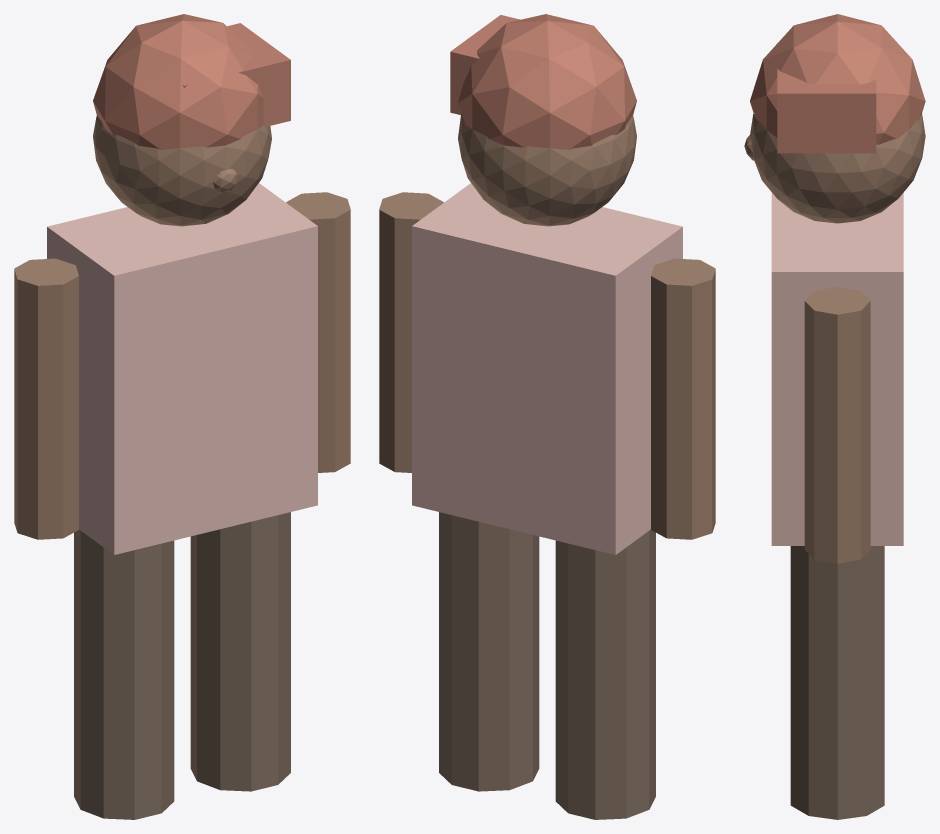
The model's file is sim_elder_soft.glb.
3 renders of one model, left to right at view 1: azimuth 30°, elevation 25°; view 2: azimuth 150°, elevation 25°; view 3: azimuth 270°, elevation 25°, orthographic.
Visible parts, largest first — view 1: p002, p000, p001, p006, p003, p005, p004, p007; view 2: p002, p000, p001, p006, p003, p005, p004, p007; view 3: p002, p001, p004, p006, p005, p007.
Part boxes in pixels (x1,y1,x2,y2): p002: (47,183,317,554); p000: (74,529,174,819); p001: (190,512,290,791); p006: (93,14,263,149); p003: (14,258,78,539); p005: (93,115,271,226); p004: (286,192,350,472); p007: (183,23,290,126); p002: (412,183,682,554); p000: (555,529,655,819); p001: (439,512,539,791); p006: (458,14,636,149); p003: (651,258,715,539); p005: (458,114,636,226); p004: (379,192,443,472); p007: (450,15,519,114); p002: (771,192,903,545); p001: (790,546,884,819); p004: (804,287,870,563); p006: (750,14,925,144); p005: (750,114,925,223); p007: (777,42,876,153).
Bounding box in the file's own units: 0.646 × 1.43 × 0.3135.
